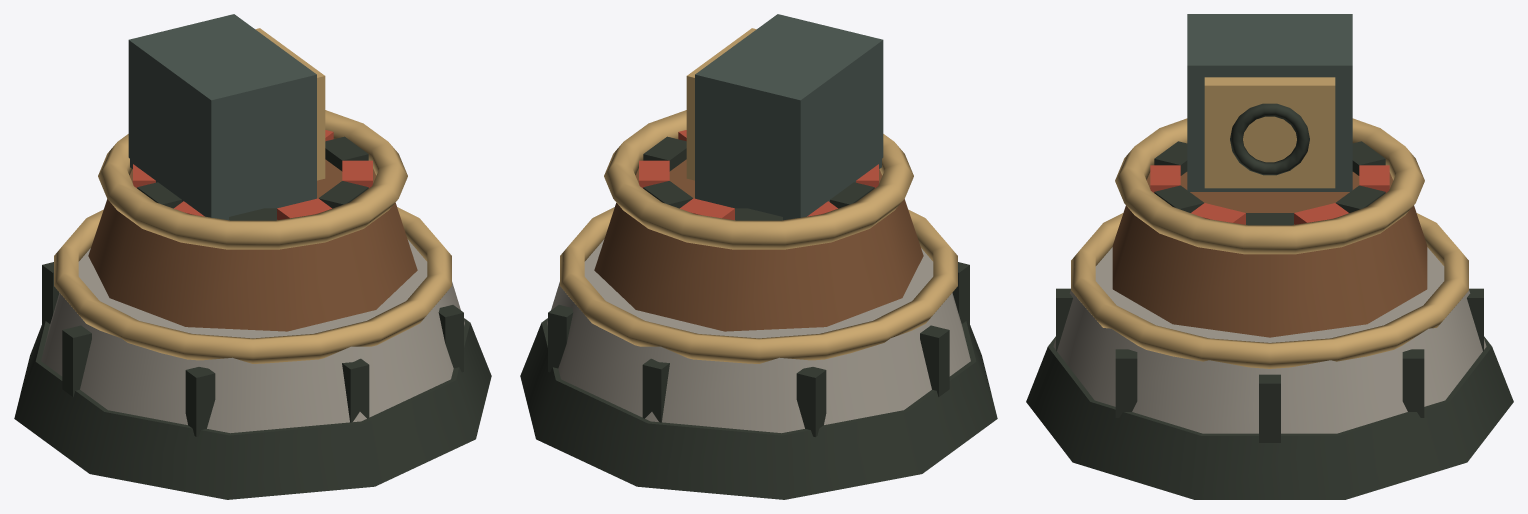
The model's file is tower_gamble_gambleLoaded.glb.
3 views of the same model, side by side, from view 1: azimuth 30°, elevation 25°; view 2: azimuth 150°, elevation 25°; view 3: azimuth 270°, elevation 25° (orthographic).
Parts seen in each view (by area): view 1: foot_0, vault_25, stone_1, table_11, rim_2, roulette_rim_12, mortar_6, mortar_7, mortar_5, vault_door_26, mortar_4, pocket_16 (+5 smaller); view 2: foot_0, vault_25, stone_1, table_11, rim_2, roulette_rim_12, mortar_8, mortar_7, mortar_9, vault_door_26, mortar_10, pocket_16 (+5 smaller); view 3: foot_0, stone_1, table_11, vault_25, rim_2, roulette_rim_12, vault_door_26, safe_lock_27, mortar_3, mortar_4, mortar_10, pocket_14 (+10 smaller).
Boxes of the visible parts, bbox=[...] form: foot_0: bbox=[14, 318, 491, 499]; vault_25: bbox=[128, 14, 316, 220]; stone_1: bbox=[41, 239, 464, 433]; table_11: bbox=[88, 159, 417, 331]; rim_2: bbox=[54, 207, 451, 363]; roulette_rim_12: bbox=[98, 110, 407, 249]; mortar_6: bbox=[185, 367, 215, 436]; mortar_7: bbox=[62, 325, 91, 396]; mortar_5: bbox=[342, 358, 369, 422]; vault_door_26: bbox=[255, 28, 325, 180]; mortar_4: bbox=[438, 305, 463, 372]; pocket_16: bbox=[325, 136, 368, 171]; foot_0: bbox=[520, 318, 997, 499]; vault_25: bbox=[695, 14, 883, 220]; stone_1: bbox=[547, 239, 970, 433]; table_11: bbox=[594, 159, 923, 331]; rim_2: bbox=[560, 207, 957, 363]; roulette_rim_12: bbox=[604, 110, 913, 249]; mortar_8: bbox=[796, 367, 826, 436]; mortar_7: bbox=[920, 325, 949, 396]; mortar_9: bbox=[642, 358, 669, 422]; vault_door_26: bbox=[686, 28, 756, 180]; mortar_10: bbox=[548, 305, 573, 372]; pocket_16: bbox=[643, 136, 686, 171]; foot_0: bbox=[1026, 336, 1513, 499]; stone_1: bbox=[1053, 247, 1486, 433]; table_11: bbox=[1112, 172, 1427, 337]; vault_25: bbox=[1187, 14, 1352, 191]; rim_2: bbox=[1071, 213, 1468, 368]; roulette_rim_12: bbox=[1115, 118, 1424, 254]; vault_door_26: bbox=[1204, 77, 1335, 188]; safe_lock_27: bbox=[1230, 103, 1309, 175]; mortar_3: bbox=[1259, 374, 1280, 442]; mortar_4: bbox=[1115, 349, 1137, 417]; mortar_10: bbox=[1402, 349, 1424, 417]; pocket_14: bbox=[1336, 185, 1385, 212].
Size of the model in its own units: 0.5326 by 0.44 by 0.56.
